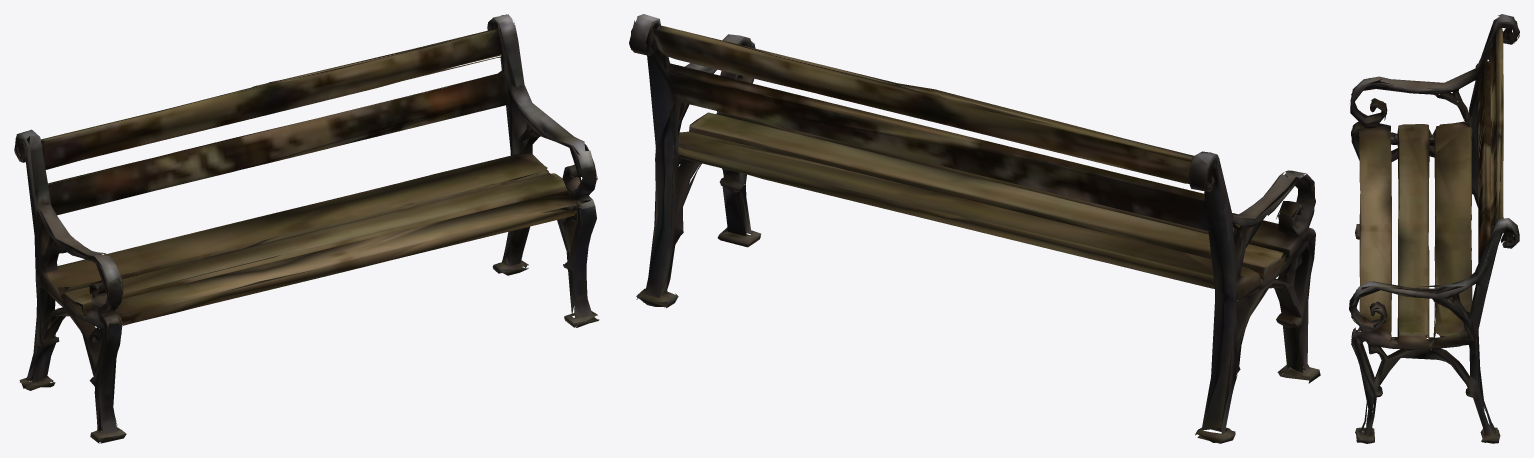
File: banco_plaza_1905.movil.glb
3 views of the same model, side by side, from view 1: azimuth 30°, elevation 25°; view 2: azimuth 150°, elevation 25°; view 3: azimuth 270°, elevation 25° (orthographic). The views are drawn at different scales.
Parts seen in each view (by area): view 1: geometry_0; view 2: geometry_0; view 3: geometry_0.
Part boxes in pixels (x1,y1,x2,y2): geometry_0: (14, 14, 599, 443); geometry_0: (629, 14, 1320, 443); geometry_0: (1349, 14, 1519, 443).
Size of the model in its own units: 1.8 by 0.8438 by 0.5992.
1 material, 1 textured.
